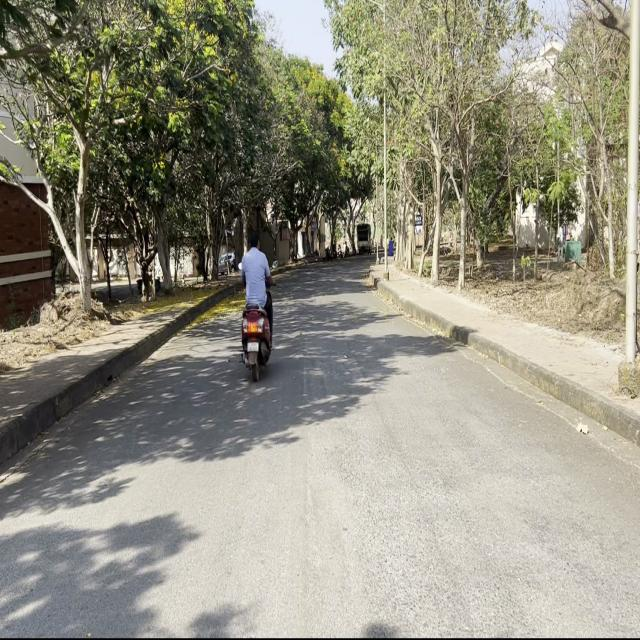Object: (239, 226, 277, 392), (357, 215, 372, 258)
Road: (3, 265, 638, 631)
